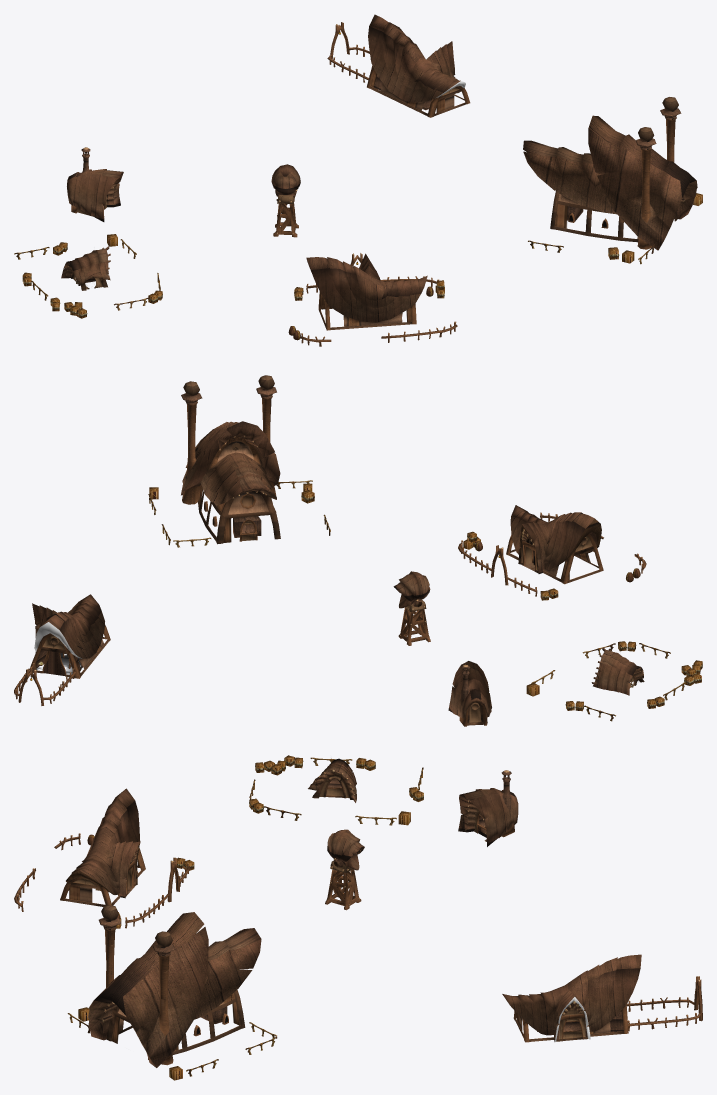
The model's file is zonematerial-foret-start_village_newbieland.glb.
3 renders of one model, top to bottom at view 1: azimuth 30°, elevation 25°; view 2: azimuth 150°, elevation 25°; view 3: azimuth 270°, elevation 25°, orthographic. The views are drawn at different scales.
Parts seen in each view (by area): view 1: ge_newbieland_starting_village; view 2: ge_newbieland_starting_village; view 3: ge_newbieland_starting_village.
Boxes of the visible parts, x1,y1,x2,y2 form: ge_newbieland_starting_village: [14, 14, 702, 346]; ge_newbieland_starting_village: [14, 375, 702, 726]; ge_newbieland_starting_village: [14, 755, 702, 1080].
Size of what is drawn, in the model's own units: 97.98 by 18.85 by 89.44.
105 materials, 103 textured.
